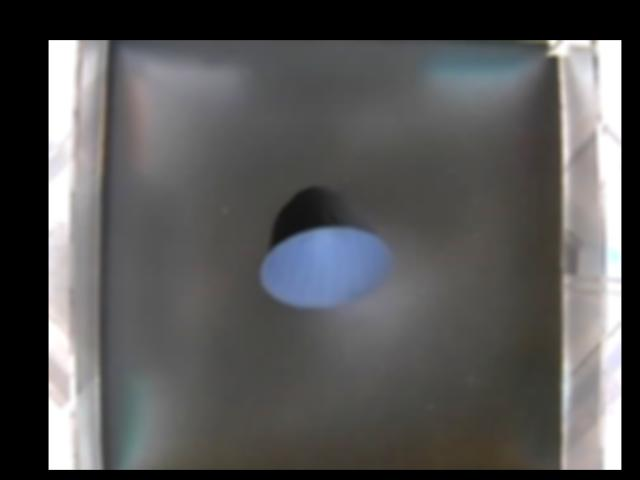Cup: (262, 187, 394, 310)
